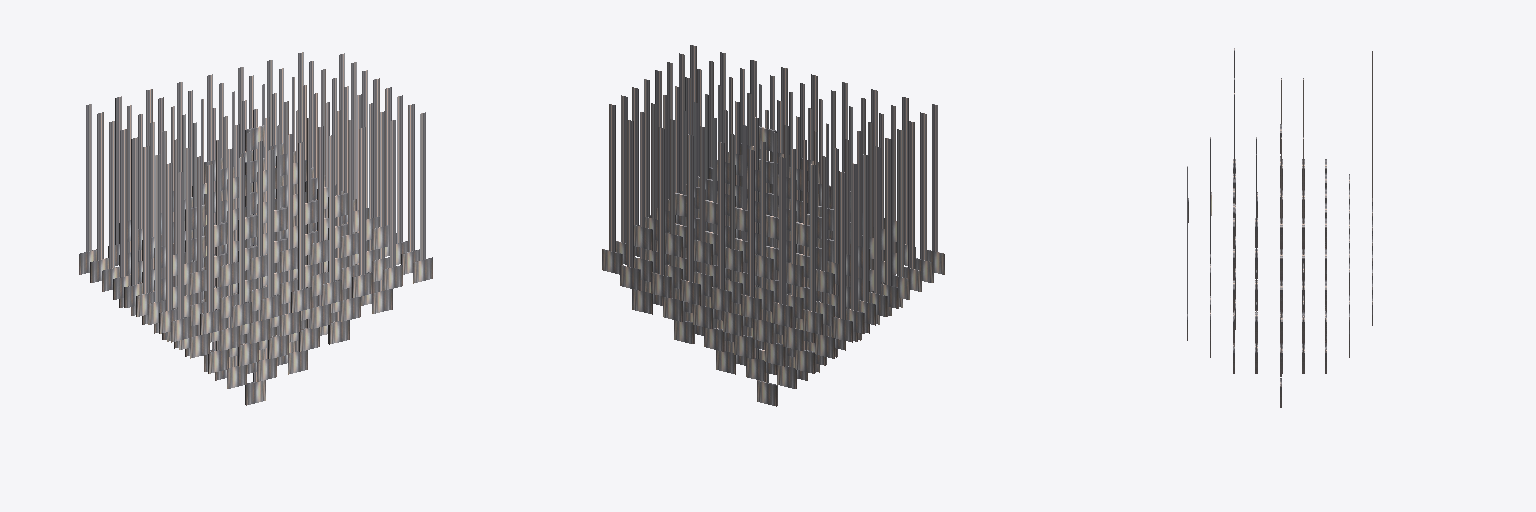
3 renders of one model, left to right at view 1: azimuth 30°, elevation 25°; view 2: azimuth 150°, elevation 25°; view 3: azimuth 270°, elevation 25°, orthographic.
Parts seen in each view (by area): view 1: Plane_067, Plane_070, Plane_054, Plane_048, Plane_056, Plane_075, Plane_071, Plane_066, Plane_055, Plane_053, Plane_050, Plane (+28 smaller); view 2: Plane_013, Plane_028, Plane_032, Plane_015, Plane_038, Plane_033, Plane_016, Plane_009, Plane_014, Plane_010, Plane, Plane_027 (+28 smaller); view 3: none.
Boxes of the visible parts, box(x1,y1,x2,y2) form: Plane_067: box(311, 126, 330, 328); Plane_070: box(328, 110, 349, 344); Plane_054: box(220, 148, 239, 350); Plane_048: box(208, 140, 228, 373); Plane_056: box(280, 134, 300, 336); Plane_075: box(372, 111, 392, 313); Plane_071: box(341, 119, 360, 321); Plane_066: box(299, 118, 319, 351); Plane_055: box(250, 141, 269, 343); Plane_053: box(190, 156, 209, 358); Plane_050: box(268, 125, 288, 358); Plane: box(245, 109, 265, 405); Plane_013: box(632, 112, 652, 314); Plane_028: box(753, 141, 773, 343); Plane_032: box(795, 140, 815, 373); Plane_015: box(693, 126, 712, 328); Plane_038: box(815, 156, 834, 358); Plane_033: box(783, 148, 803, 350); Plane_016: box(723, 134, 742, 336); Plane_009: box(704, 118, 724, 351); Plane_014: box(663, 119, 682, 321); Plane_010: box(734, 125, 754, 358); Plane: box(757, 110, 777, 406); Plane_027: box(765, 132, 785, 366).
Size of the model in its own units: 2.37 by 2.55 by 1.46.
80 materials, 1 textured.